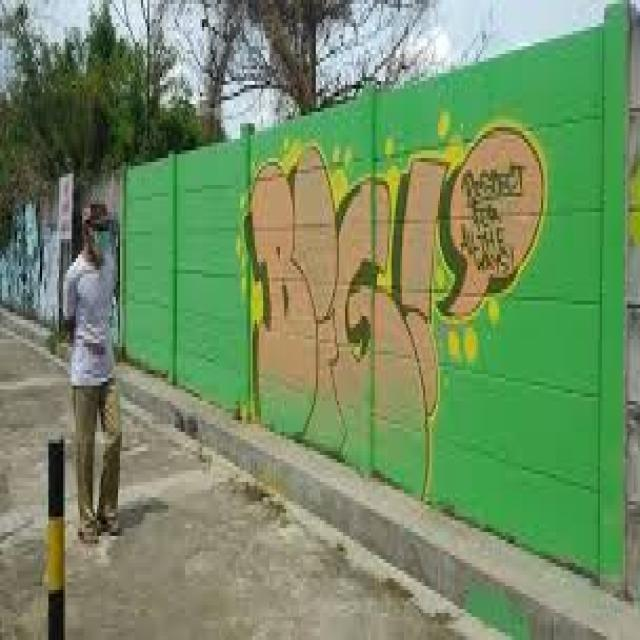-: (240, 125, 547, 508)
